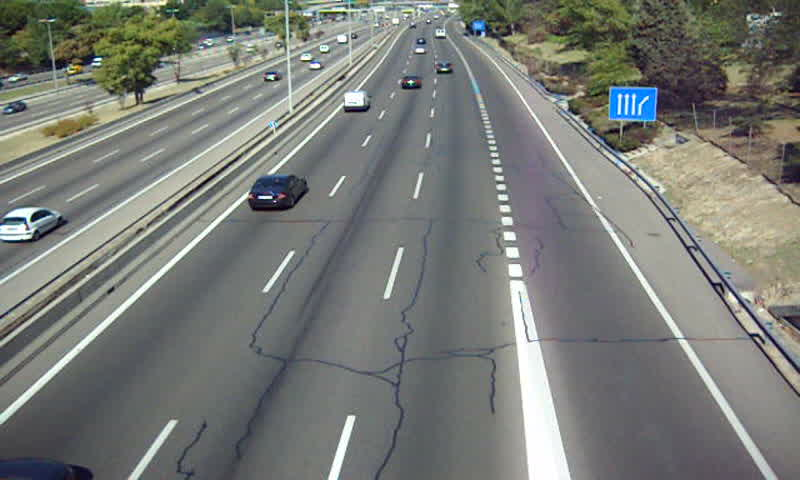car: (247, 174, 307, 209), (399, 75, 422, 92), (434, 60, 454, 76)
van: (343, 91, 369, 111)
